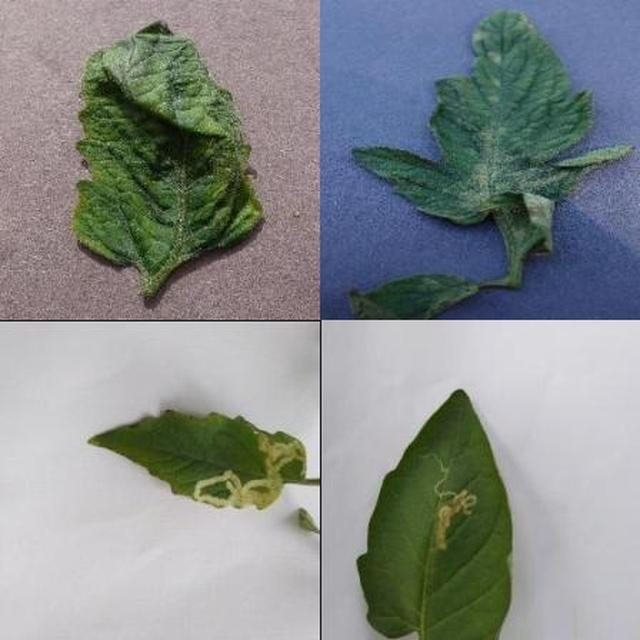Yellow Leaf Curl Virus: (229, 153, 640, 640)
